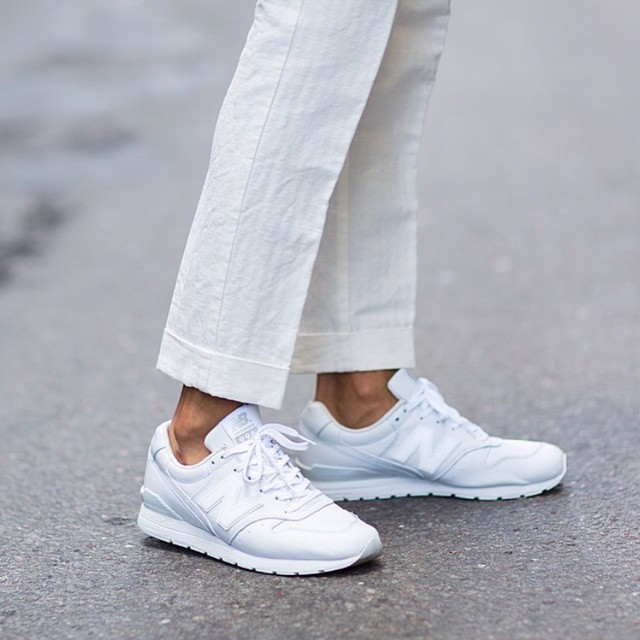sneaker: (112, 353, 397, 592), (282, 363, 582, 520)
